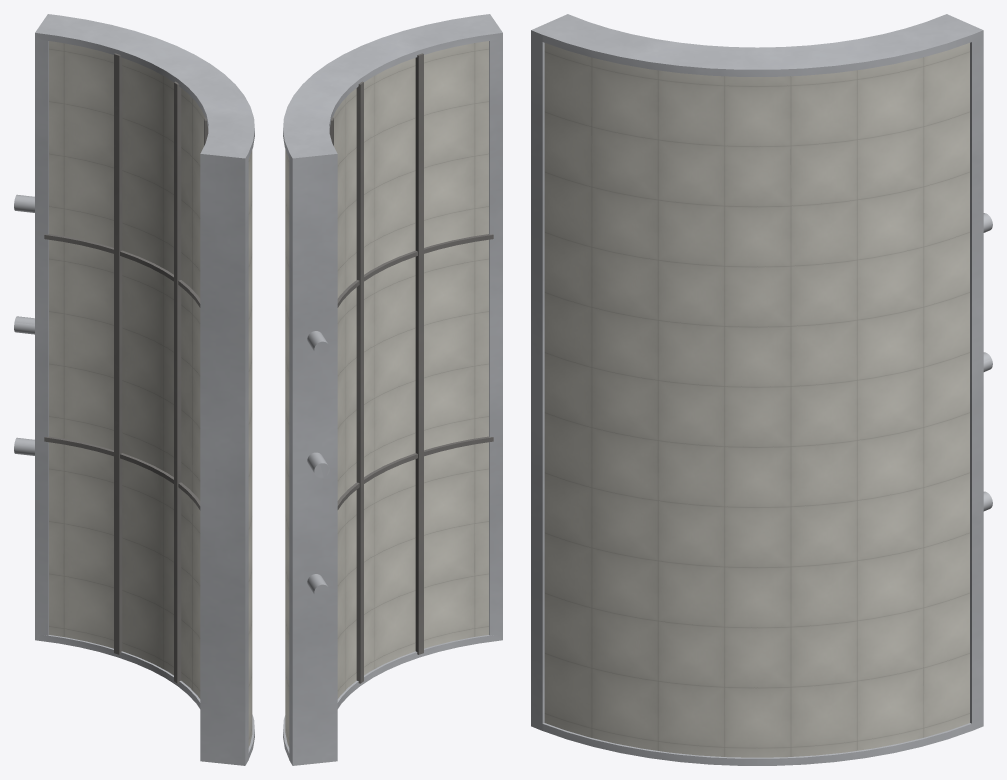
File: tank10_water_wall_s.glb
3 renders of one model, left to right at view 1: azimuth 30°, elevation 25°; view 2: azimuth 150°, elevation 25°; view 3: azimuth 270°, elevation 25°, orthographic. The views are drawn at different scales.
Visible parts, largest first — view 1: bladder, edge_frame, quilt_seams, ports; view 2: bladder, edge_frame, quilt_seams, ports; view 3: bladder, edge_frame.
Boxes of the visible parts, <box> form: bladder: <box>49,41,252,747</box>; edge_frame: <box>35,14,254,765</box>; quilt_seams: <box>44,53,208,683</box>; ports: <box>14,194,34,455</box>; bladder: <box>285,41,488,747</box>; edge_frame: <box>283,14,502,765</box>; quilt_seams: <box>329,53,493,683</box>; ports: <box>307,331,329,599</box>; bladder: <box>544,43,969,757</box>; edge_frame: <box>531,14,983,765</box>.
Size of the model in its own units: 0.5303 by 2.89 by 1.74.
3 materials, 3 textured.
